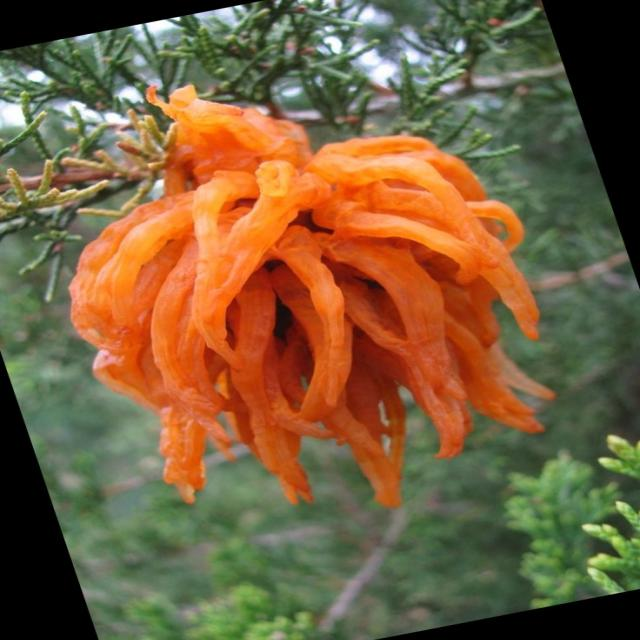Gymnosporangium_Rusts: (66, 83, 556, 509)
